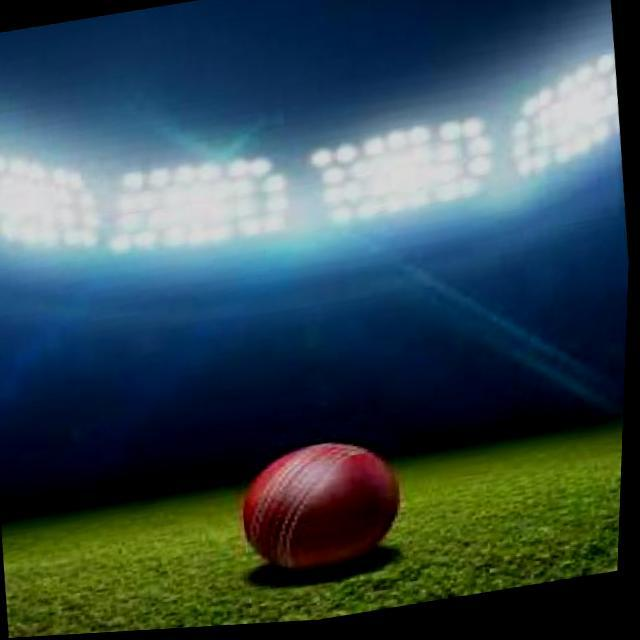Red_Ball: (232, 443, 398, 572)
